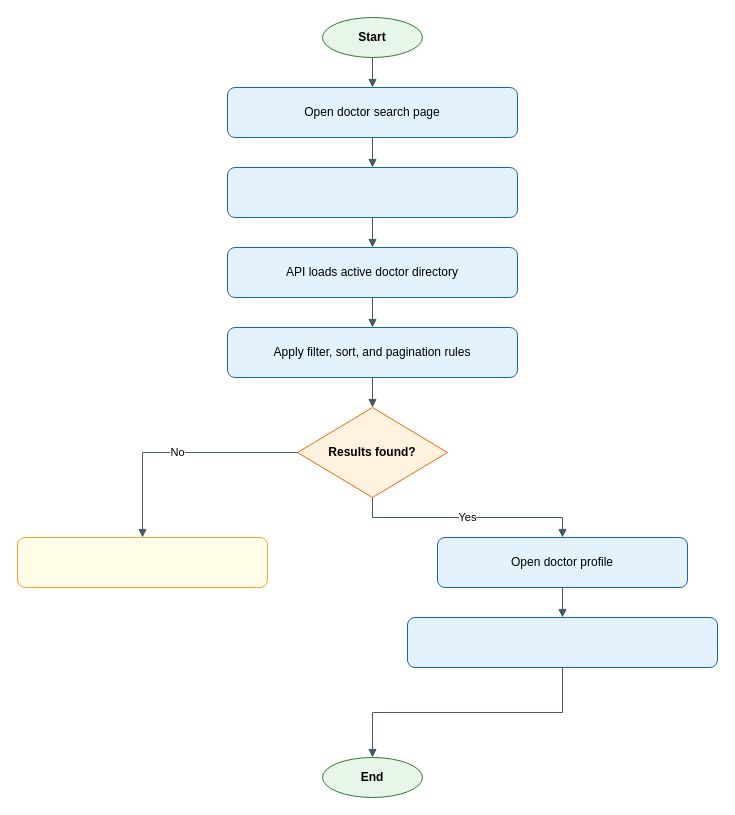
Image size: 735x815. Some labels were removed from this diagram. The centre of each missing label's shape, as x and y in pixels:
Enter search terms and filters: point (372, 192)
Refine search criteria: point (142, 562)
Review fees, schedule, location, and availability: point (562, 642)
